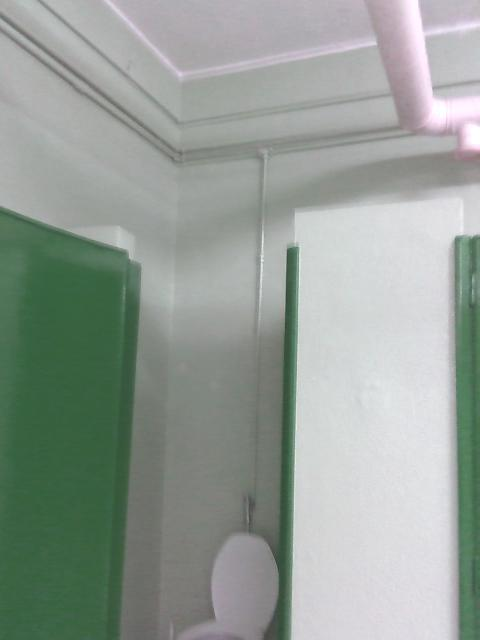open_door: (117, 208, 297, 638)
